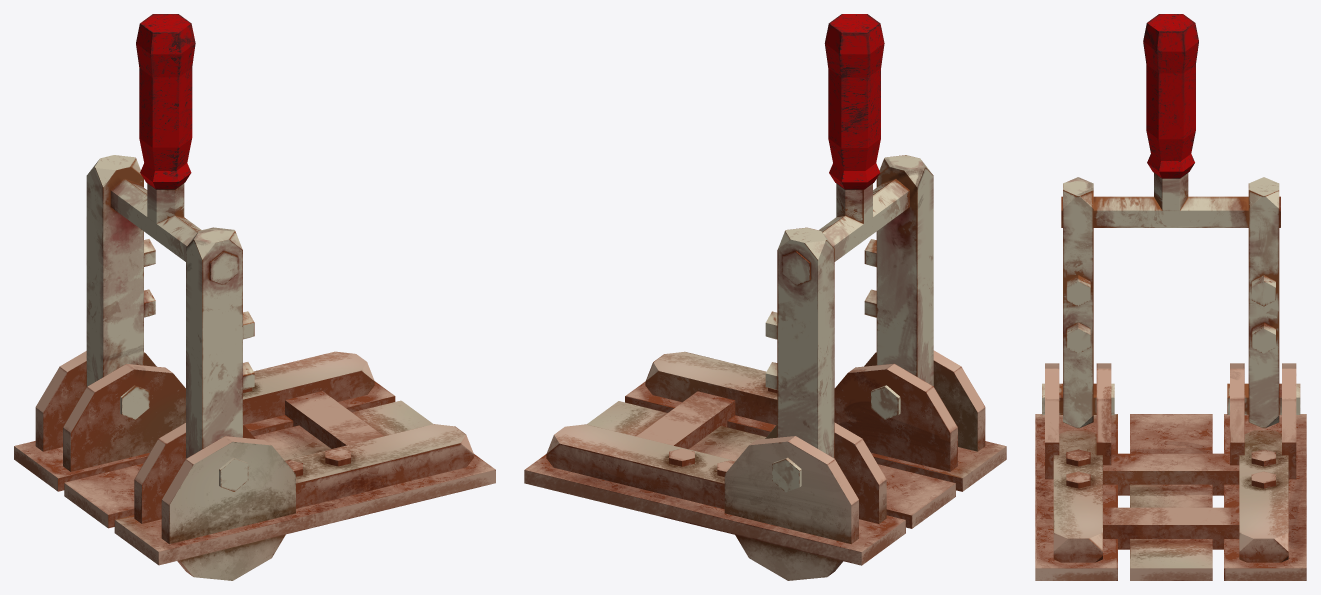
Rendered from old_electric_switch.glb.
3 views of the same model, side by side, from view 1: azimuth 30°, elevation 25°; view 2: azimuth 150°, elevation 25°; view 3: azimuth 270°, elevation 25° (orthographic). The views are drawn at different scales.
Visible parts, largest first — view 1: Object_2, Object_3; view 2: Object_2, Object_3; view 3: Object_2, Object_3.
Boxes of the visible parts, bbox=[...] form: Object_2: bbox=[14, 351, 495, 580]; Object_3: bbox=[86, 14, 254, 491]; Object_2: bbox=[524, 350, 1006, 580]; Object_3: bbox=[765, 14, 933, 492]; Object_2: bbox=[1035, 363, 1306, 580]; Object_3: bbox=[1042, 14, 1300, 428].
Bounding box in the file's own units: 2.53 × 3.65 × 1.88.
Materials: 2 (2 with a texture image).
